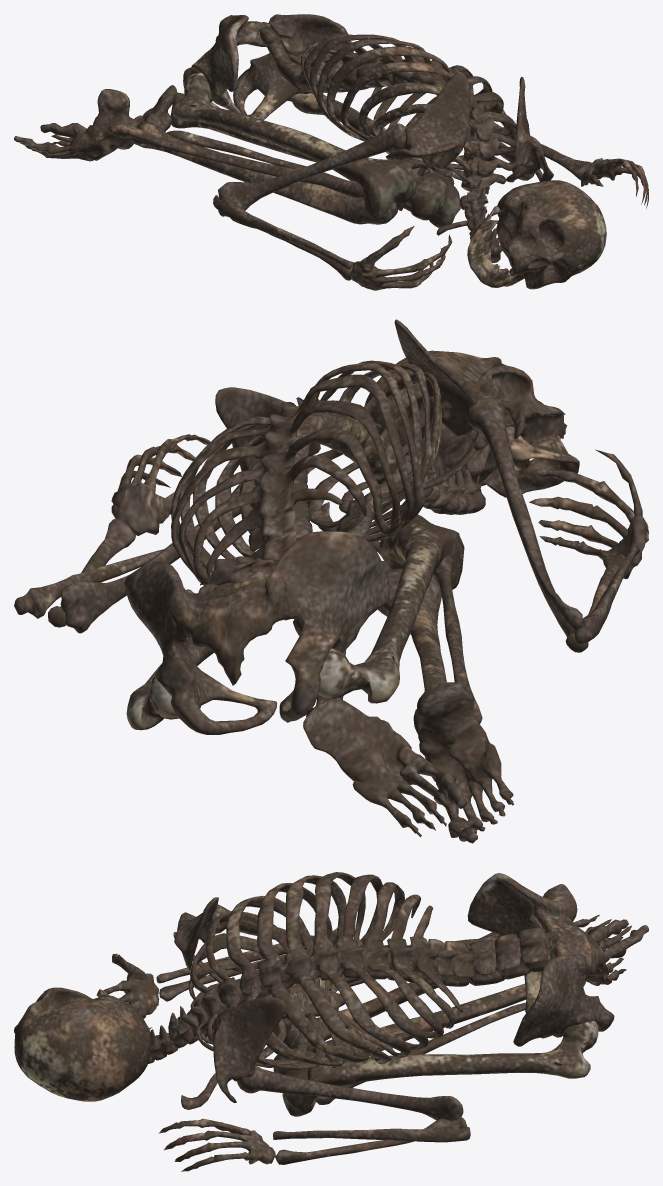
Rendered from SM_Skeleton_04.glb.
The picture shows the model from 3 angles, top to bottom: view 1: azimuth 30°, elevation 25°; view 2: azimuth 150°, elevation 25°; view 3: azimuth 270°, elevation 25°; orthographic projection. The views are drawn at different scales.
Visible parts, largest first — view 1: SM_Skeleton_04; view 2: SM_Skeleton_04; view 3: SM_Skeleton_04.
Part boxes in pixels (x1,y1,x2,y2): SM_Skeleton_04: (14,14,648,290); SM_Skeleton_04: (14,319,648,843); SM_Skeleton_04: (14,872,648,1171).
Bounding box in the file's own units: 0.9199 × 0.3867 × 1.05.
Materials: 1 (1 with a texture image).
